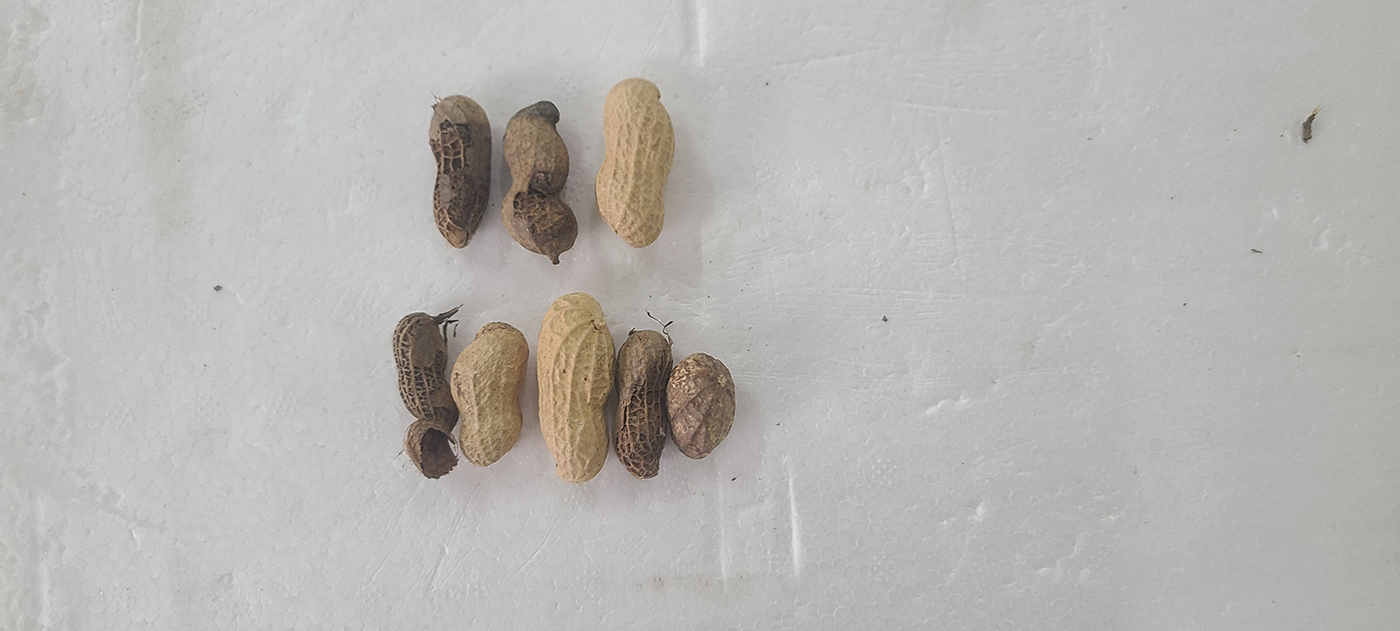h: (536, 292, 617, 481), (594, 79, 675, 247), (451, 321, 529, 465)
l: (501, 100, 578, 255), (392, 312, 460, 478), (429, 94, 493, 249), (615, 330, 675, 478), (666, 352, 735, 459)
